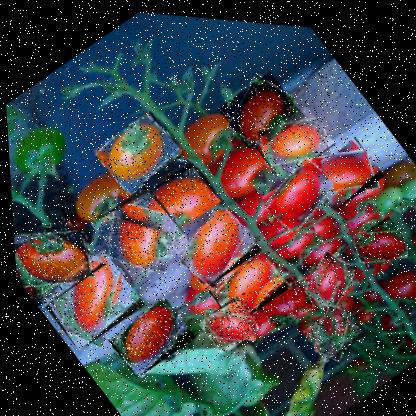tomato: (31, 242, 145, 355), (85, 176, 193, 286), (9, 203, 106, 314), (88, 102, 186, 197), (126, 149, 222, 243), (166, 198, 261, 290), (101, 290, 195, 380), (214, 61, 306, 152), (248, 94, 337, 180), (253, 146, 342, 231), (202, 242, 290, 325), (300, 125, 386, 208), (291, 239, 361, 308), (192, 287, 260, 354), (297, 293, 364, 360), (344, 205, 412, 271), (251, 265, 314, 327)
